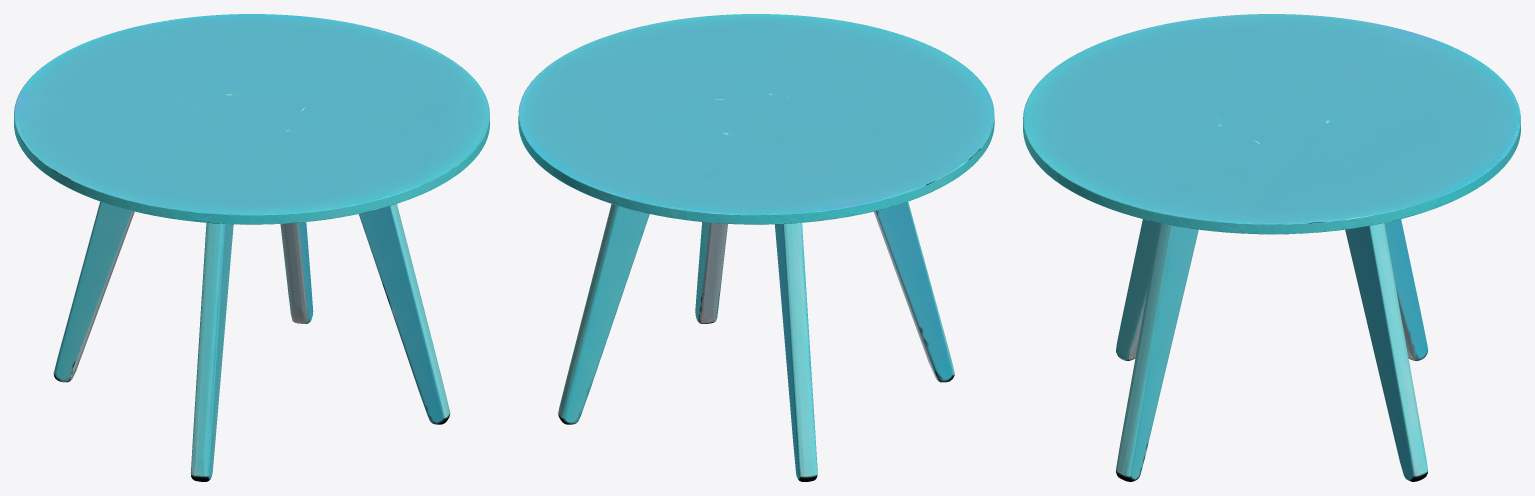
Rendered from edited_mesh.glb.
3 renders of one model, left to right at view 1: azimuth 30°, elevation 25°; view 2: azimuth 150°, elevation 25°; view 3: azimuth 270°, elevation 25°, orthographic. The views are drawn at different scales.
Visible parts, largest first — view 1: solid_001_wire; view 2: solid_001_wire; view 3: solid_001_wire.
Part boxes in pixels (bbox=[...]): solid_001_wire: bbox=[14, 14, 489, 481]; solid_001_wire: bbox=[518, 14, 994, 481]; solid_001_wire: bbox=[1023, 14, 1520, 481].
Size of the model in its own units: 1.72 by 1.14 by 1.72.
Materials: 1 (1 with a texture image).
